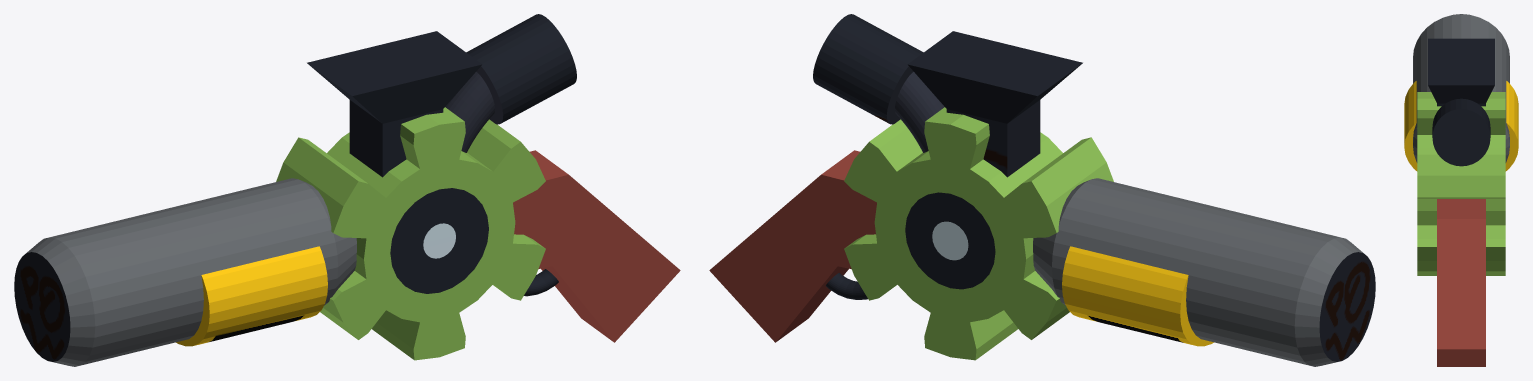
The model's file is bomber.fbx.
3 renders of one model, left to right at view 1: azimuth 30°, elevation 25°; view 2: azimuth 150°, elevation 25°; view 3: azimuth 270°, elevation 25°, orthographic. The views are drawn at different scales.
Visible parts, largest first — view 1: Gear.001; view 2: Gear.001; view 3: Gear.001.
Boxes of the visible parts, x1,y1,x2,y2 form: Gear.001: [14, 14, 680, 366]; Gear.001: [709, 14, 1375, 366]; Gear.001: [1404, 14, 1518, 366].
Size of the model in its own units: 615 by 309 by 134.
1 material, 1 textured.
